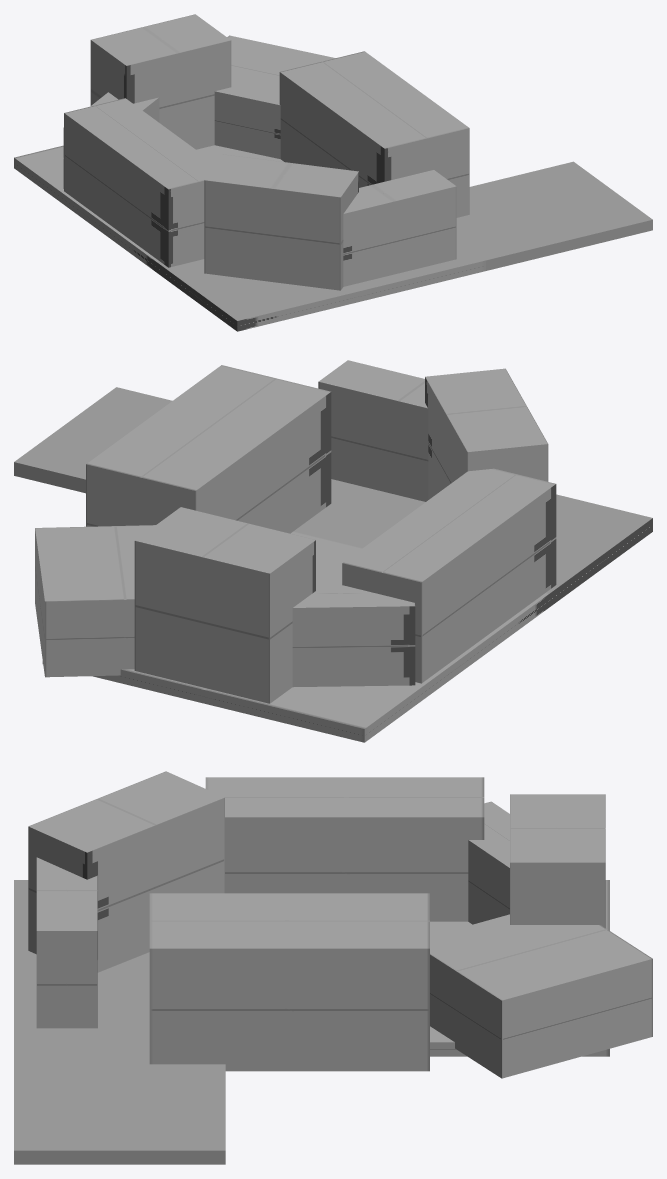
3 views of the same model, one above another, from view 1: azimuth 30°, elevation 25°; view 2: azimuth 150°, elevation 25°; view 3: azimuth 270°, elevation 25° (orthographic). The views are drawn at different scales.
Visible parts, largest first — view 1: level; view 2: level; view 3: level.
Part boxes in pixels (bbox=[...]): level: bbox=[14, 14, 652, 331]; level: bbox=[14, 360, 652, 742]; level: bbox=[14, 771, 652, 1164].
Size of the model in its own units: 81.76 by 20.93 by 81.59.
3 materials, 3 textured.
